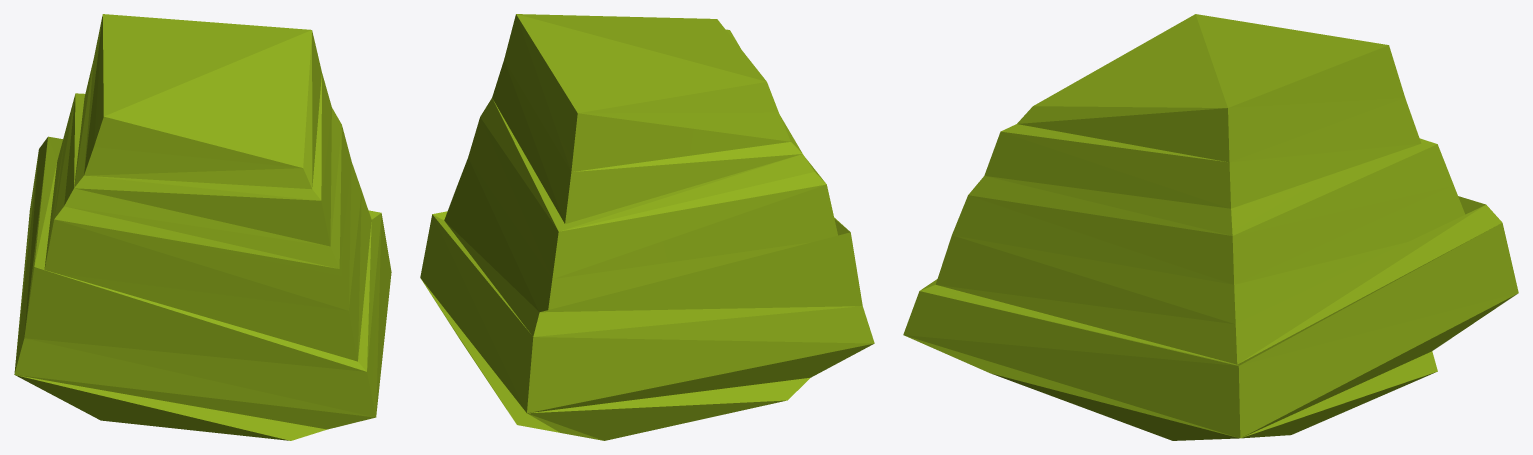
The model's file is Vegetation_Modular_Tree_Foliage_Clump_Spike_Half_01.fbx.
3 renders of one model, left to right at view 1: azimuth 30°, elevation 25°; view 2: azimuth 150°, elevation 25°; view 3: azimuth 270°, elevation 25°, orthographic. The views are drawn at different scales.
Visible parts, largest first — view 1: Vegetation_Modular_Tree_Foliage_Clump_Spike_Half_01; view 2: Vegetation_Modular_Tree_Foliage_Clump_Spike_Half_01; view 3: Vegetation_Modular_Tree_Foliage_Clump_Spike_Half_01.
Part boxes in pixels (x1,y1,x2,y2): Vegetation_Modular_Tree_Foliage_Clump_Spike_Half_01: (14,14,391,440); Vegetation_Modular_Tree_Foliage_Clump_Spike_Half_01: (420,14,874,440); Vegetation_Modular_Tree_Foliage_Clump_Spike_Half_01: (903,14,1518,440).
Size of the model in its own units: 133 by 92.49 by 164.
